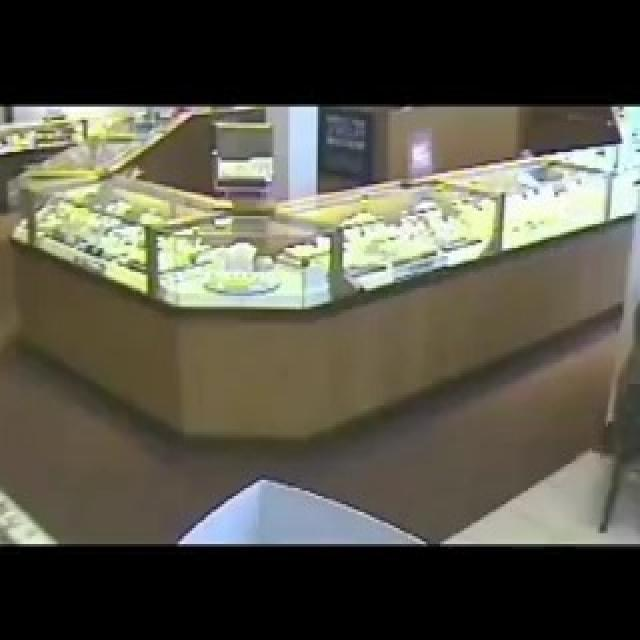normal: (0, 107, 640, 546)
